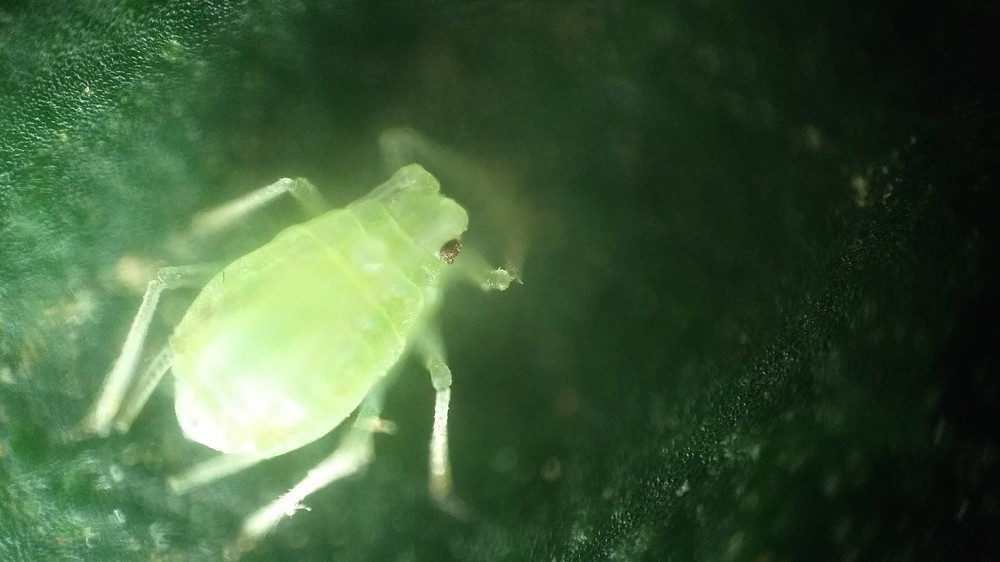Pulgon: (54, 110, 581, 537)
